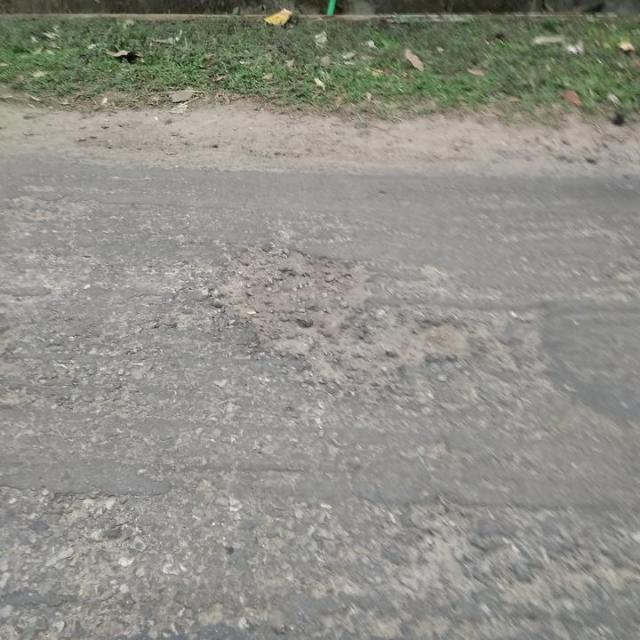Pothole: (207, 232, 472, 389)
